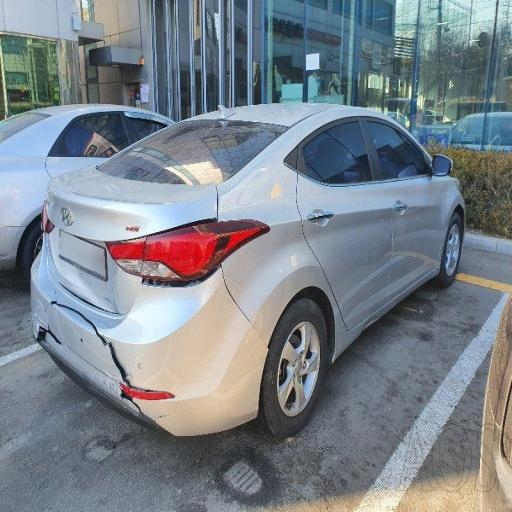broken: (38, 197, 308, 432)
